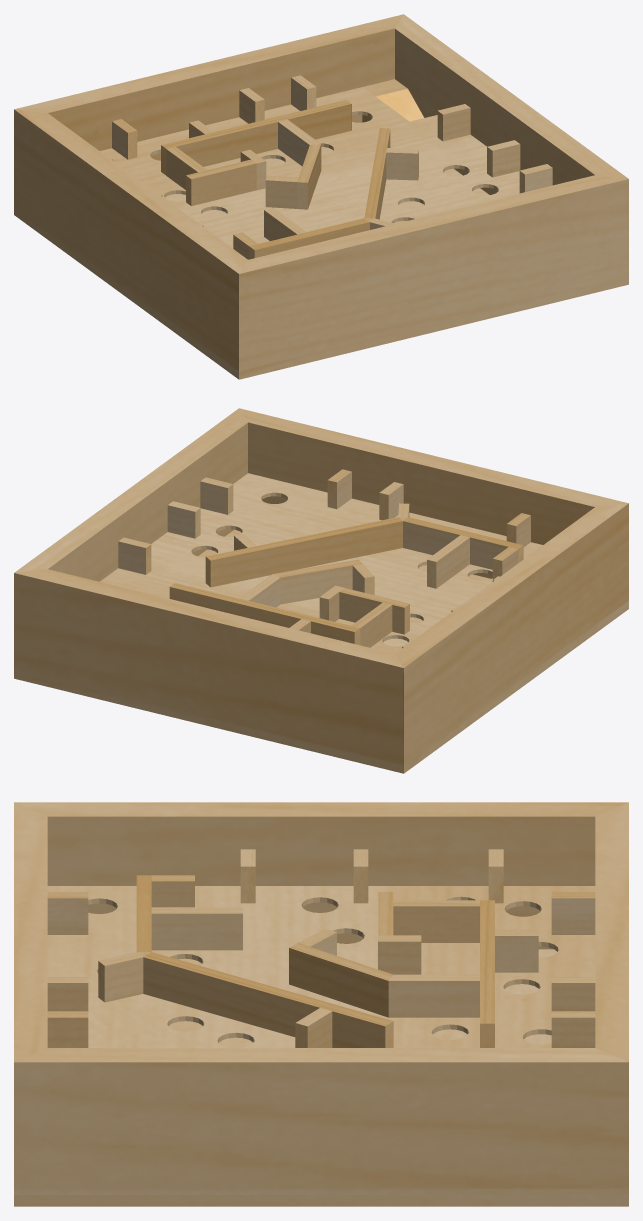
File: dummy1.dae
3 views of the same model, one above another, from view 1: azimuth 30°, elevation 25°; view 2: azimuth 150°, elevation 25°; view 3: azimuth 270°, elevation 25° (orthographic). The views are drawn at different scales.
Visible parts, largest first — view 1: frame, obstical; view 2: frame, obstical; view 3: frame, obstical.
Part boxes in pixels (x1,y1,x2,y2): frame: (14, 14, 628, 379); obstical: (106, 75, 552, 259); frame: (14, 408, 628, 773); obstical: (118, 469, 530, 648); frame: (14, 802, 628, 1206); obstical: (47, 849, 595, 1047).
Size of the model in its own units: 47.13 by 47.13 by 12.21.
Materials: 2 (2 with a texture image).
